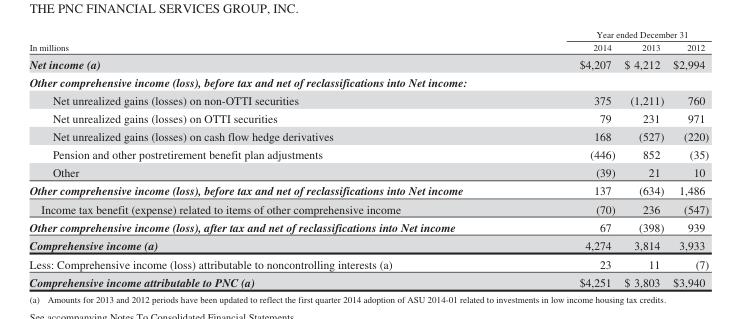table: (28, 28, 708, 288)
table column: (28, 28, 520, 288), (520, 28, 619, 288), (619, 28, 667, 288), (667, 28, 708, 288)
table column header: (28, 28, 708, 54)
table projected row header: (28, 72, 708, 90)
table row: (28, 90, 708, 109), (28, 235, 708, 254), (28, 54, 708, 72), (28, 72, 708, 90), (28, 109, 708, 127), (28, 127, 708, 145), (28, 145, 708, 163), (28, 163, 708, 181), (28, 181, 708, 199), (28, 199, 708, 217), (28, 217, 708, 235), (28, 254, 708, 272), (28, 272, 708, 288), (28, 40, 708, 54), (28, 28, 708, 40)
table spanning cell: (28, 28, 520, 54), (520, 28, 708, 40)
